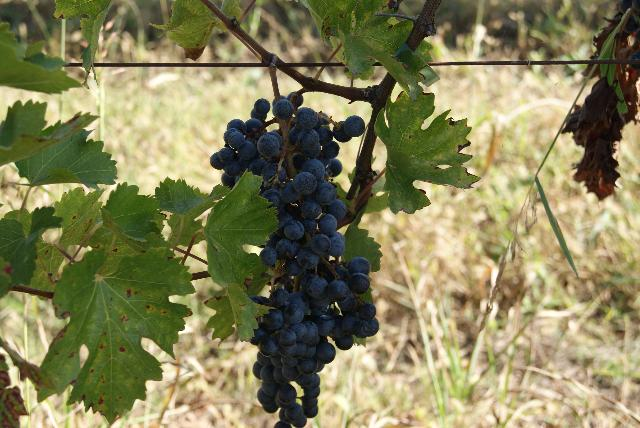grapes: (250, 234, 379, 426), (211, 99, 365, 259)
